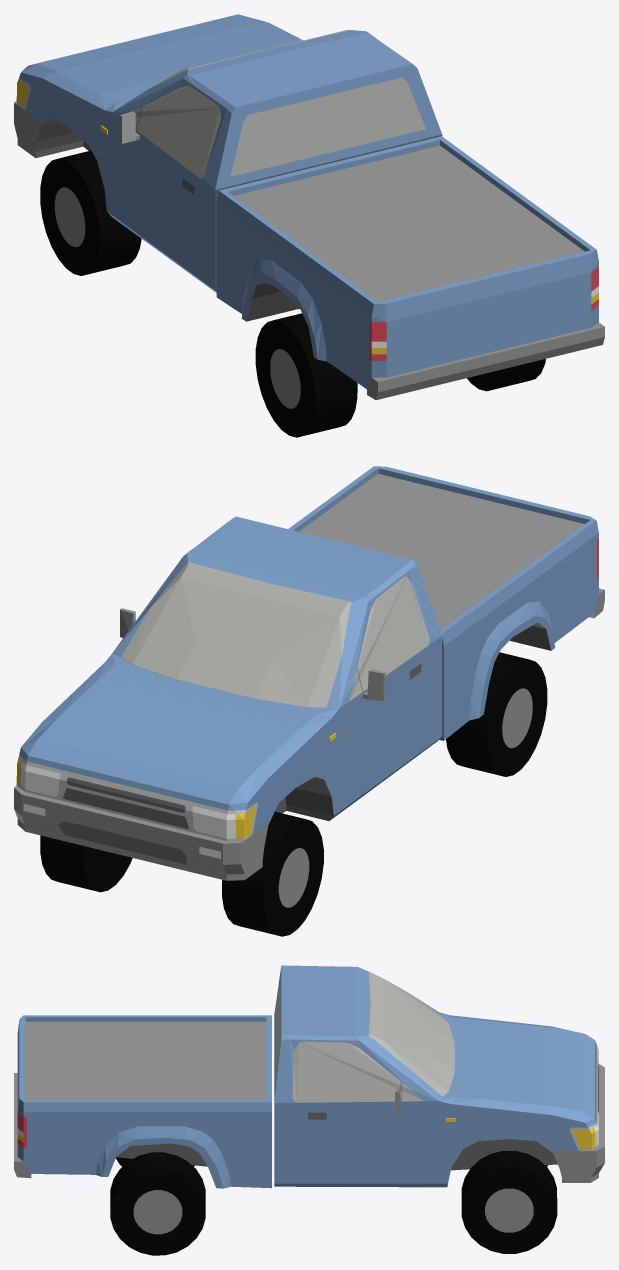
3 views of the same model, one above another, from view 1: azimuth 30°, elevation 25°; view 2: azimuth 150°, elevation 25°; view 3: azimuth 270°, elevation 25° (orthographic). The views are drawn at different scales.
Parts seen in each view (by area): view 1: Mesh1 Model, Mesh5 Model, Mesh4 Model, Mesh2 Model; view 2: Mesh1 Model, Mesh4 Model, Mesh5 Model, Mesh3 Model; view 3: Mesh1 Model, Mesh3 Model, Mesh2 Model.
Boxes of the visible parts, x1,y1,x2,y2 form: Mesh1 Model: (14, 14, 604, 400); Mesh5 Model: (255, 313, 357, 437); Mesh4 Model: (40, 150, 141, 275); Mesh2 Model: (467, 359, 545, 391); Mesh1 Model: (14, 466, 604, 880); Mesh4 Model: (222, 811, 323, 936); Mesh5 Model: (446, 652, 547, 776); Mesh3 Model: (40, 835, 132, 892); Mesh1 Model: (14, 965, 604, 1188); Mesh3 Model: (461, 1151, 557, 1253); Mesh2 Model: (110, 1152, 205, 1255).
Bounding box in the file's own units: 134 × 128 × 326.
